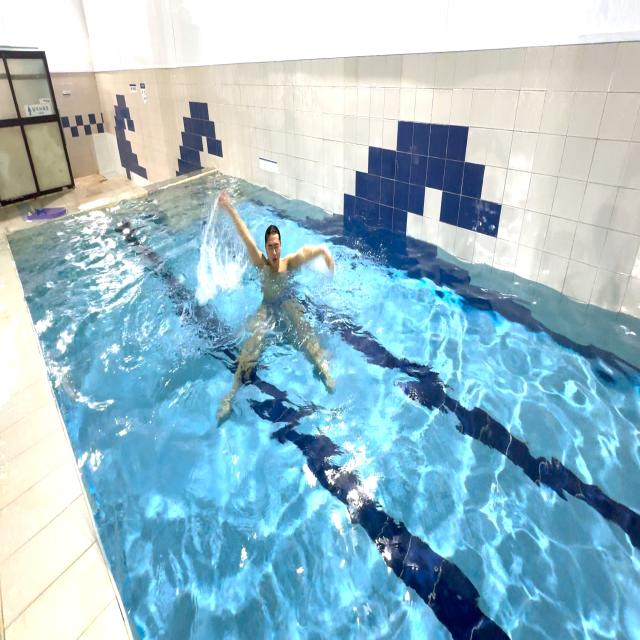Drowning: (206, 174, 344, 413)
